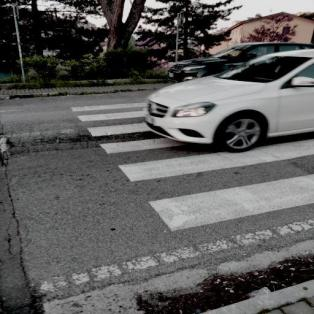Paso de Cebra: (114, 134, 313, 241)
